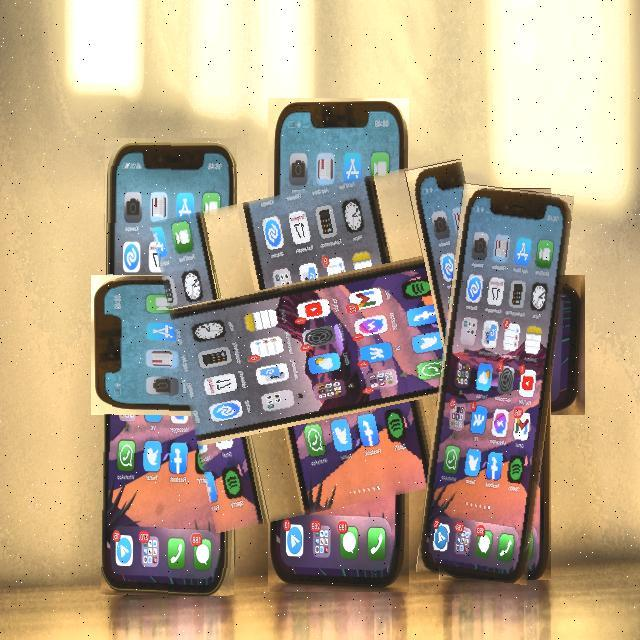Phone: (165, 172, 512, 518), (104, 138, 235, 596), (428, 185, 562, 582)
